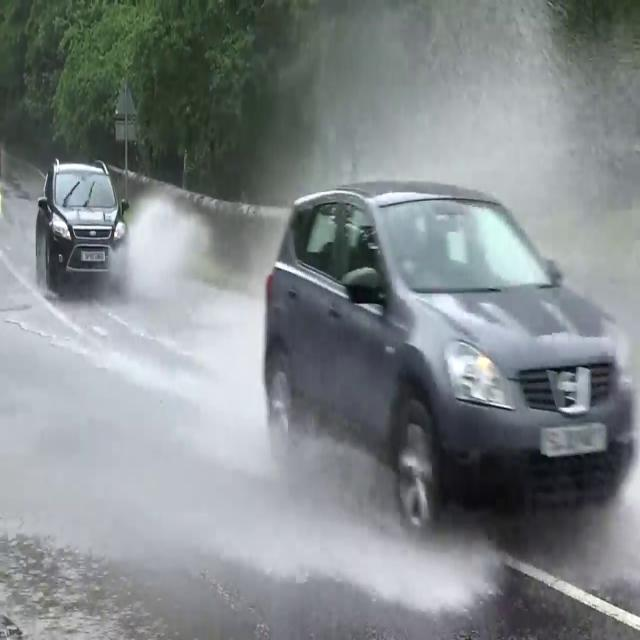license-plate-annotation: (543, 420, 607, 456)
